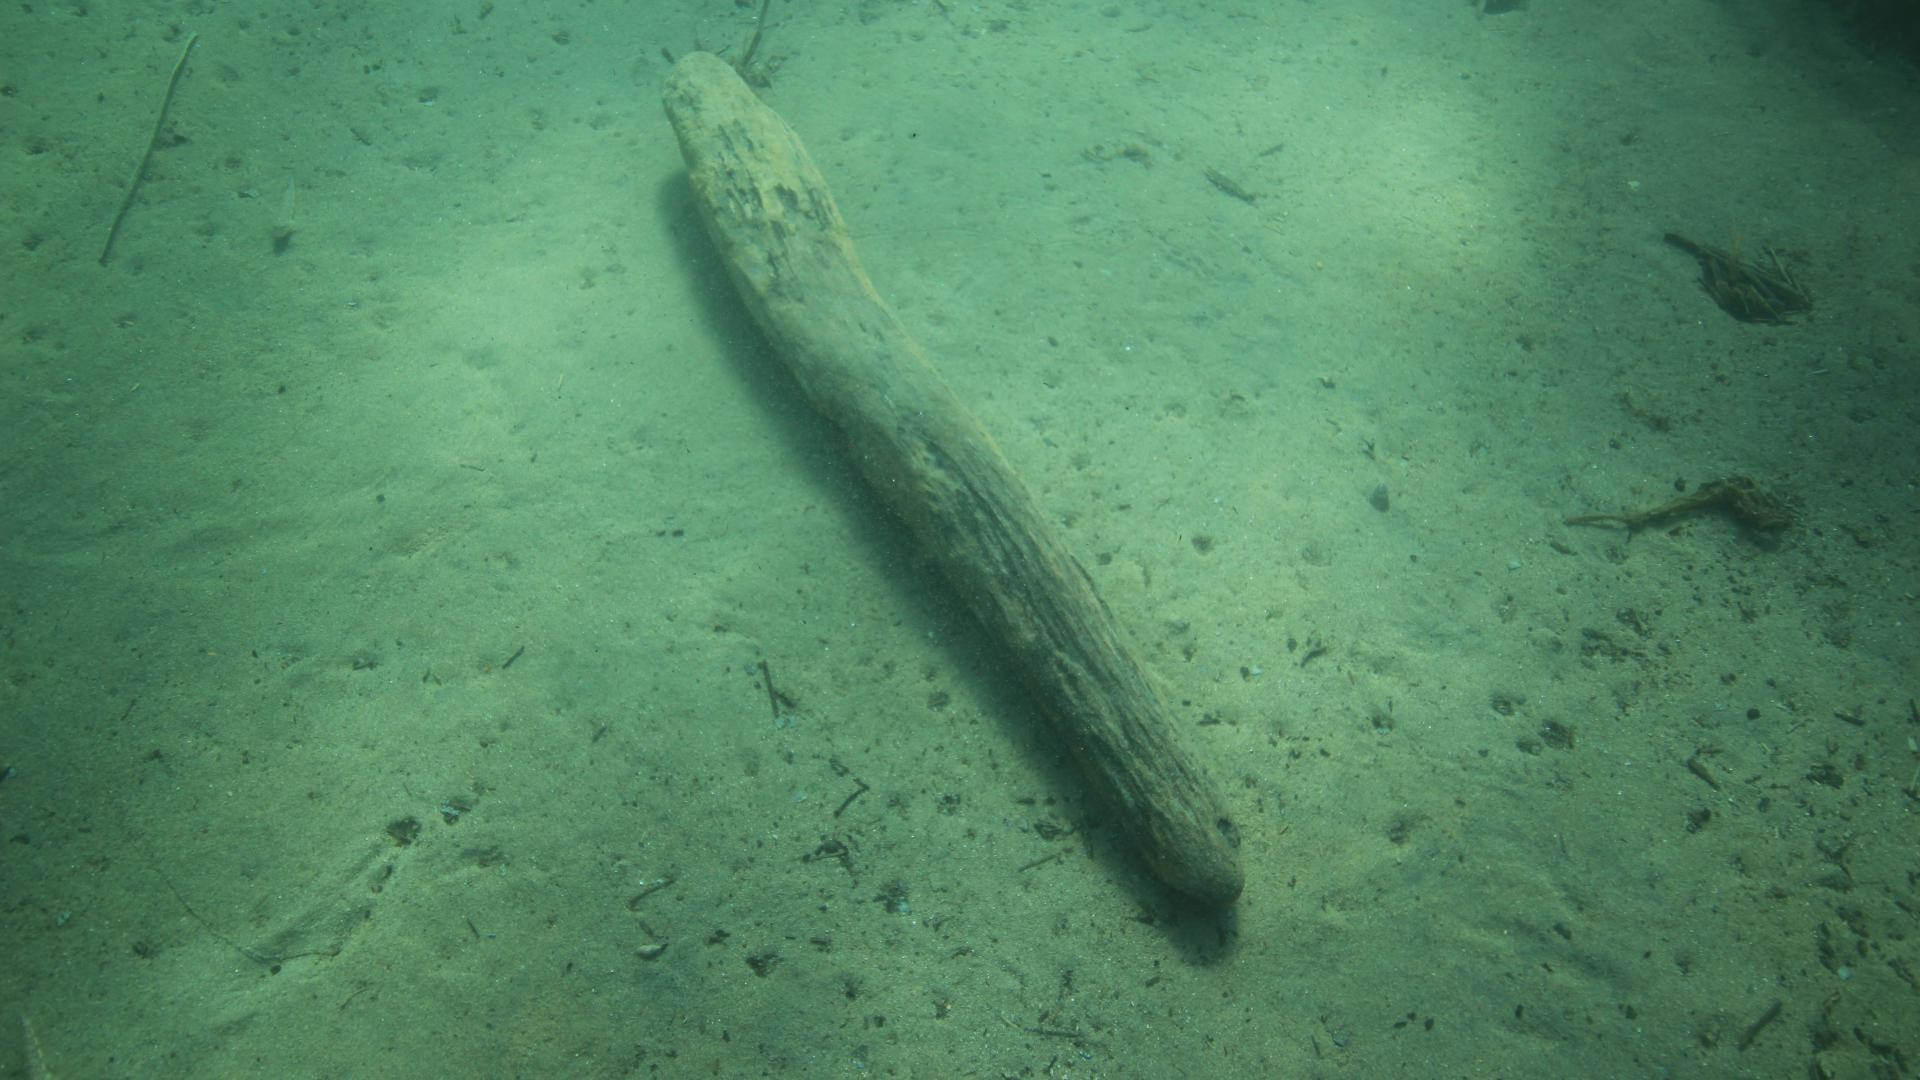wood: (657, 47, 1247, 906)
